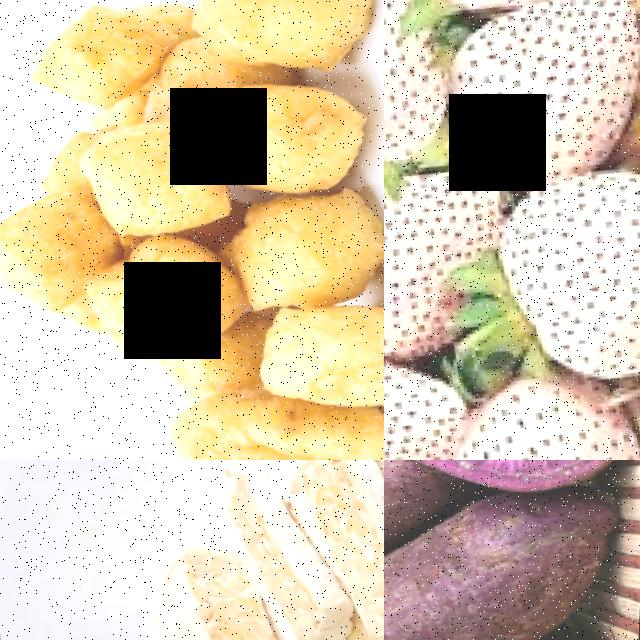strawberry: (435, 0, 640, 187), (495, 131, 640, 389), (384, 151, 486, 370), (452, 345, 640, 460), (384, 0, 460, 178)
sweet potato: (384, 460, 640, 640), (384, 460, 640, 507)
tempeh: (218, 460, 350, 640), (296, 460, 384, 640), (157, 529, 285, 640)
tofu: (78, 211, 259, 365), (69, 95, 243, 249), (207, 58, 383, 204), (227, 168, 384, 314), (162, 357, 384, 460), (252, 270, 384, 421), (16, 0, 177, 122), (173, 0, 384, 90)
